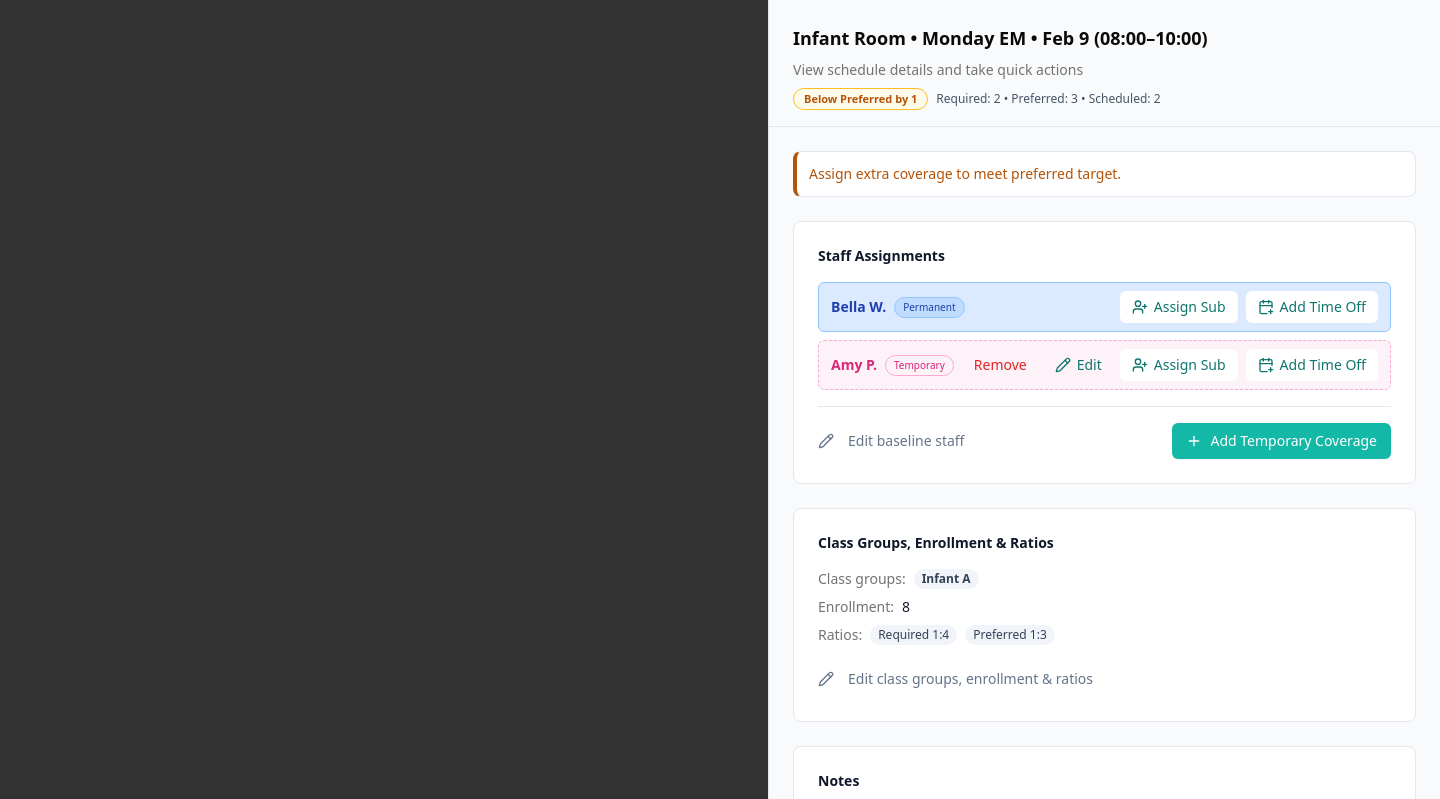
Test: ScheduleSidePanel interactions › supports baseline edit handoff and return to cell panel
Expected: the text "Bella W." is shown, 831,297 -> 886,317
Step 1. Click the button "Edit baseline staff" → coordinates (891, 441), box 818,423 -> 964,459
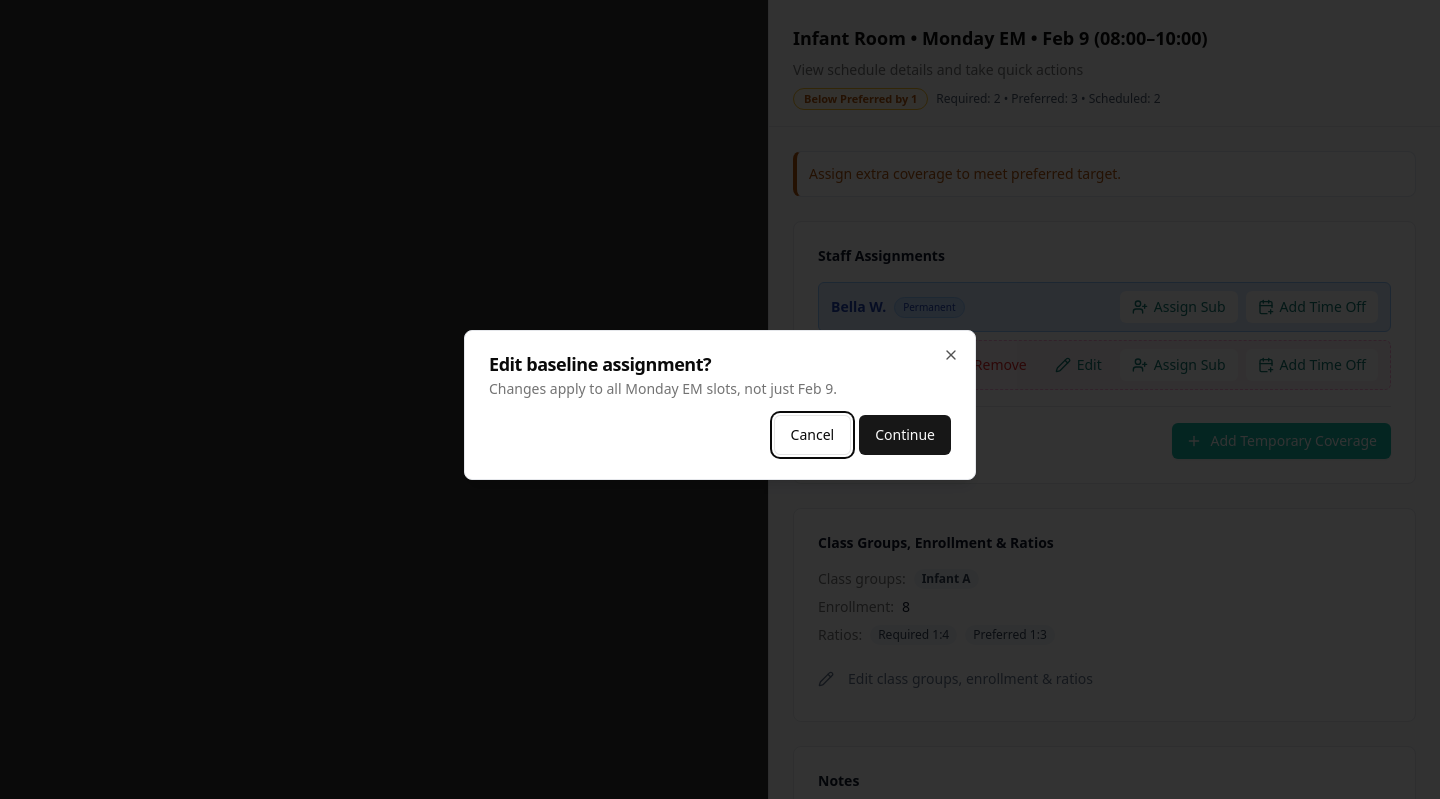
Now the heading "Edit baseline assignment?" is shown, box 489,352 -> 711,376
Step 2. Click the button "Continue" → coordinates (905, 435), box 859,415 -> 951,455
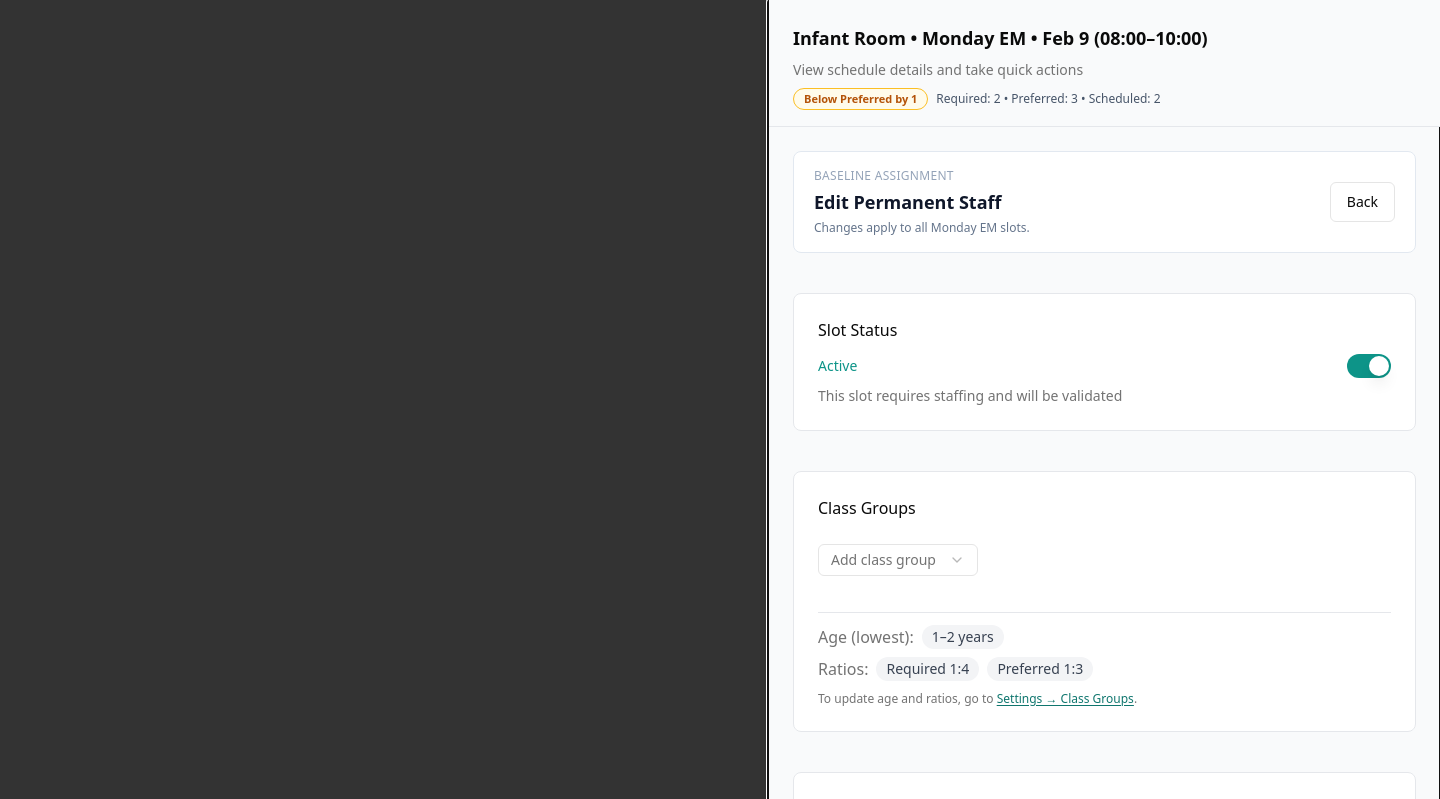
Now the heading "Edit Permanent Staff" is shown, box 814,188 -> 1030,216
Now the button "Back" is shown, box 1330,182 -> 1395,222
